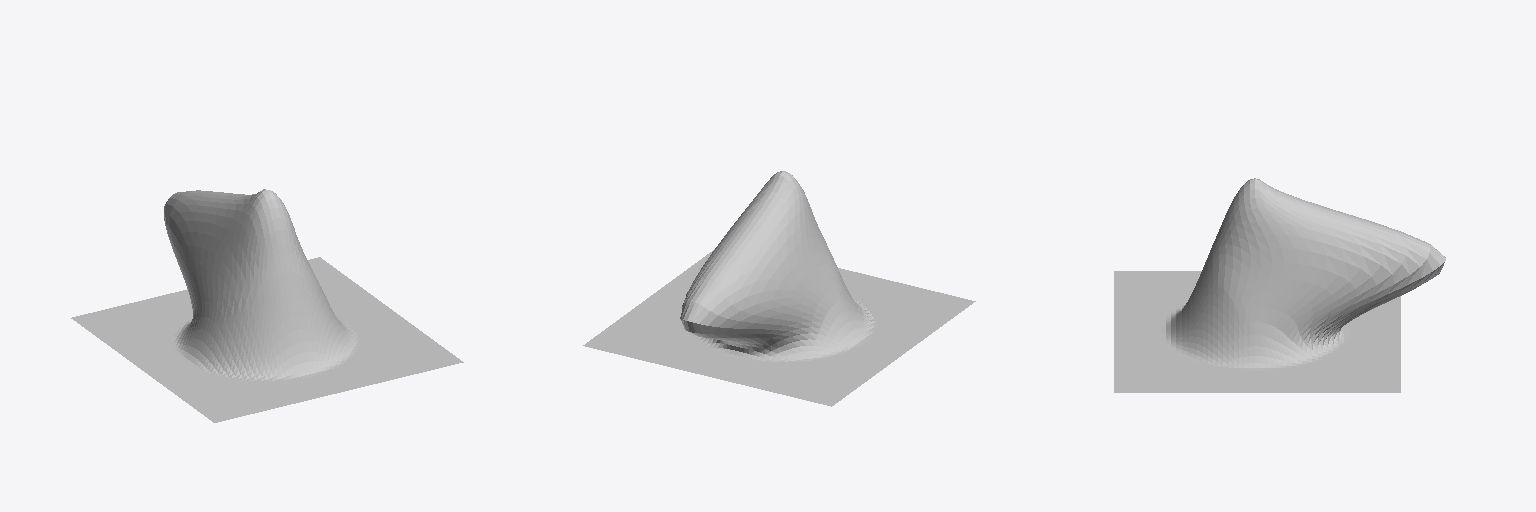
The model's file is DummerBerg.obj.
The picture shows the model from 3 angles: view 1: azimuth 30°, elevation 25°; view 2: azimuth 150°, elevation 25°; view 3: azimuth 270°, elevation 25°; orthographic projection.
Parts seen in each view (by area): view 1: Plane; view 2: Plane; view 3: Plane.
Part boxes in pixels (x1,y1,x2,y2): Plane: (71, 189, 463, 422); Plane: (583, 171, 975, 406); Plane: (1114, 178, 1445, 392).
Bounding box in the file's own units: 50 × 29.08 × 57.81.